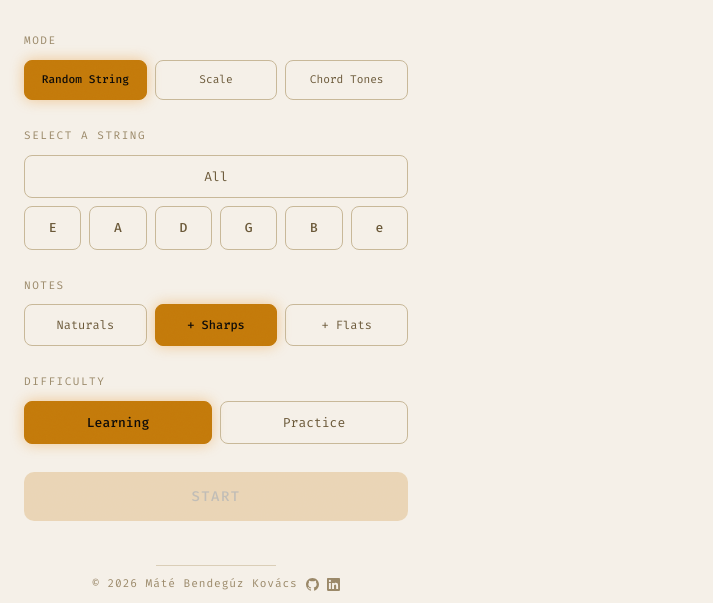
Scenario: ModeSelector — mode switch state preservation › disables Start when switching from filled Scale to empty Random String
The width and height of the screenshot is (713, 603).
Note: Fill Scale mode — Start becomes enabled.
Click the button "Scale": x=216, y=80 [155,60,277,100]
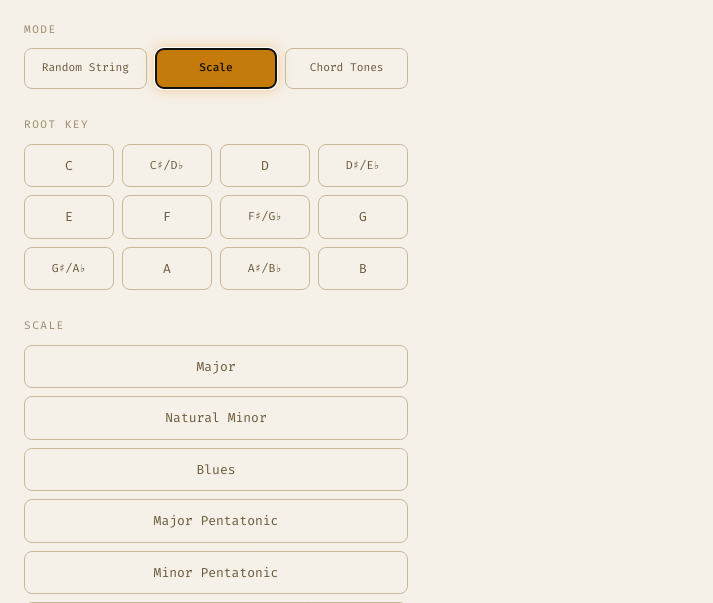
Click the button "G": x=363, y=217 [318,195,408,239]
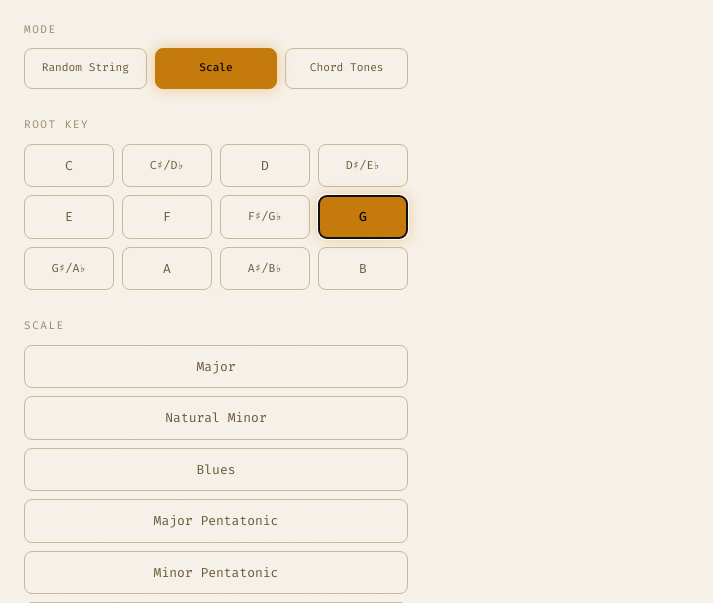
Click the button "Blues": x=216, y=469 [24,448,408,491]
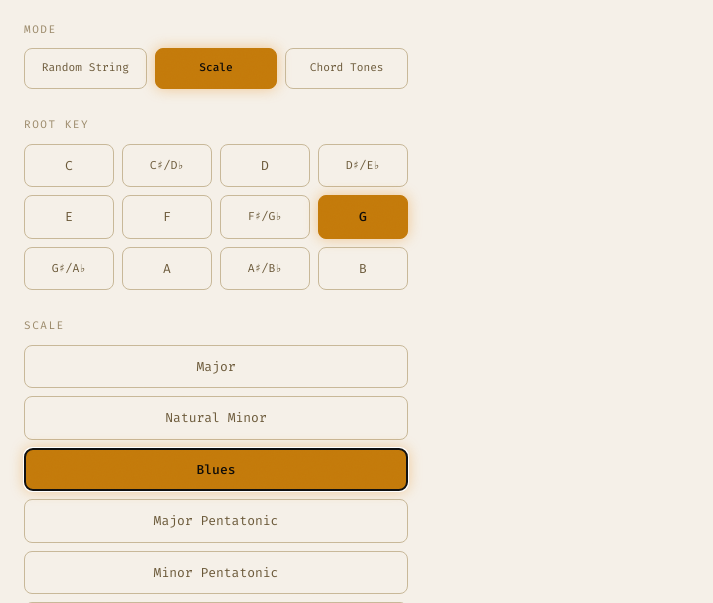
Note: Switch to Random String with no string selected — Start must be disabled.
Click the button "Random String": x=85, y=69 [24,48,147,89]
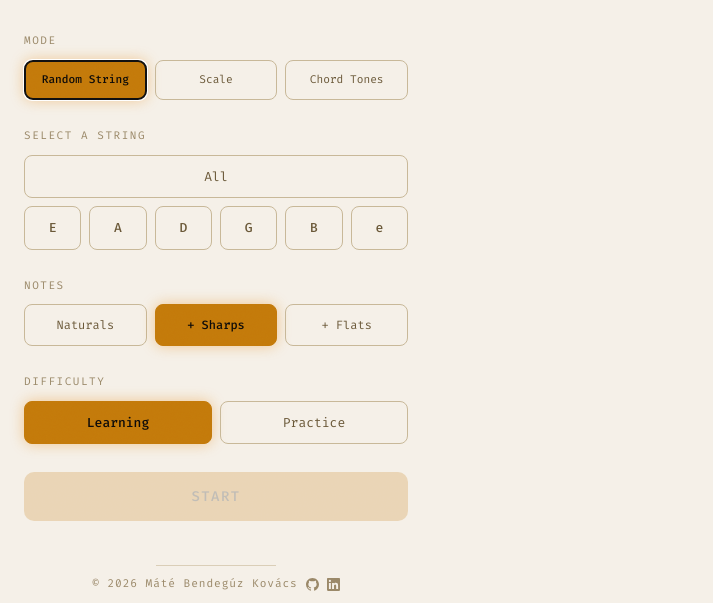
Result: the button "Start" is disabled at [24,472,408,521]
Note: Switch back to Scale — previous selections are preserved, Start is enabled again.
Click the button "Scale": x=216, y=80 [155,60,277,100]
(page scrolled)
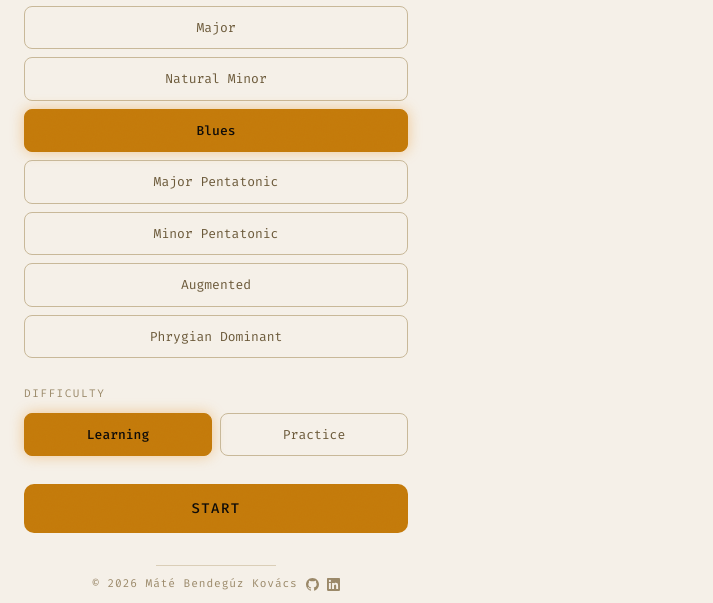
Result: the button "Start" is enabled at [24,484,408,533]
